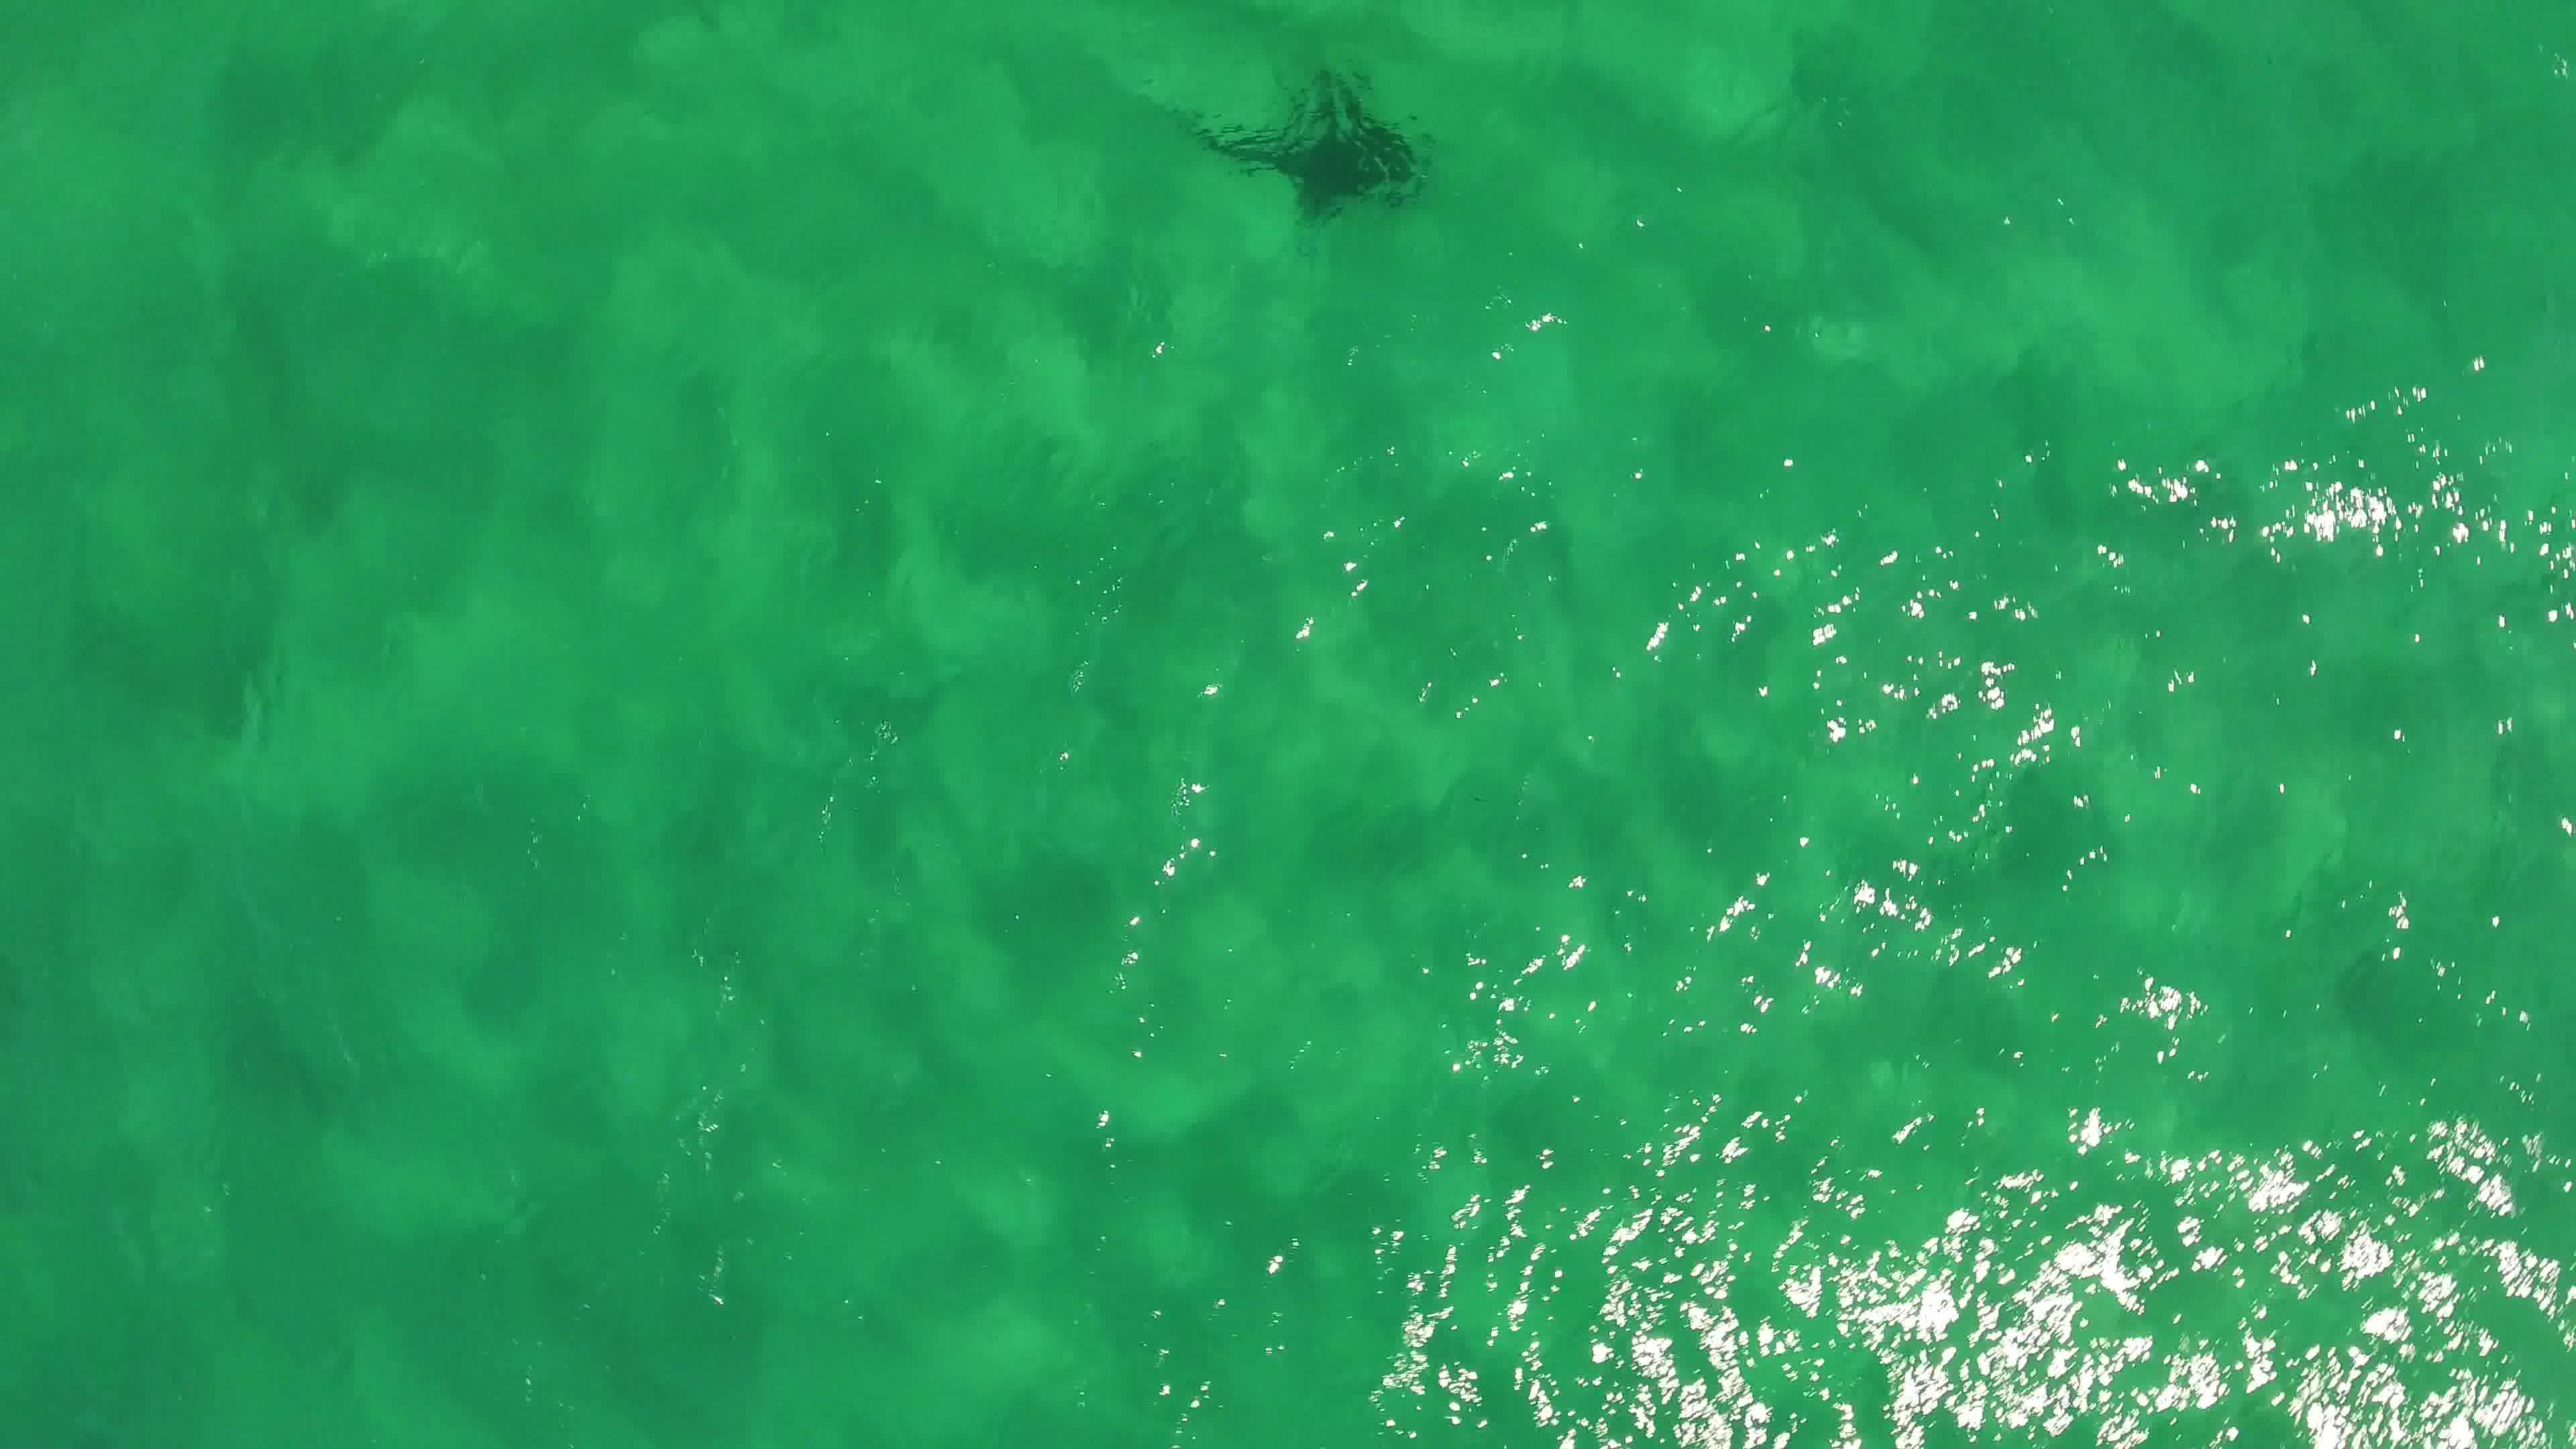shark: (1191, 67, 1437, 230)
